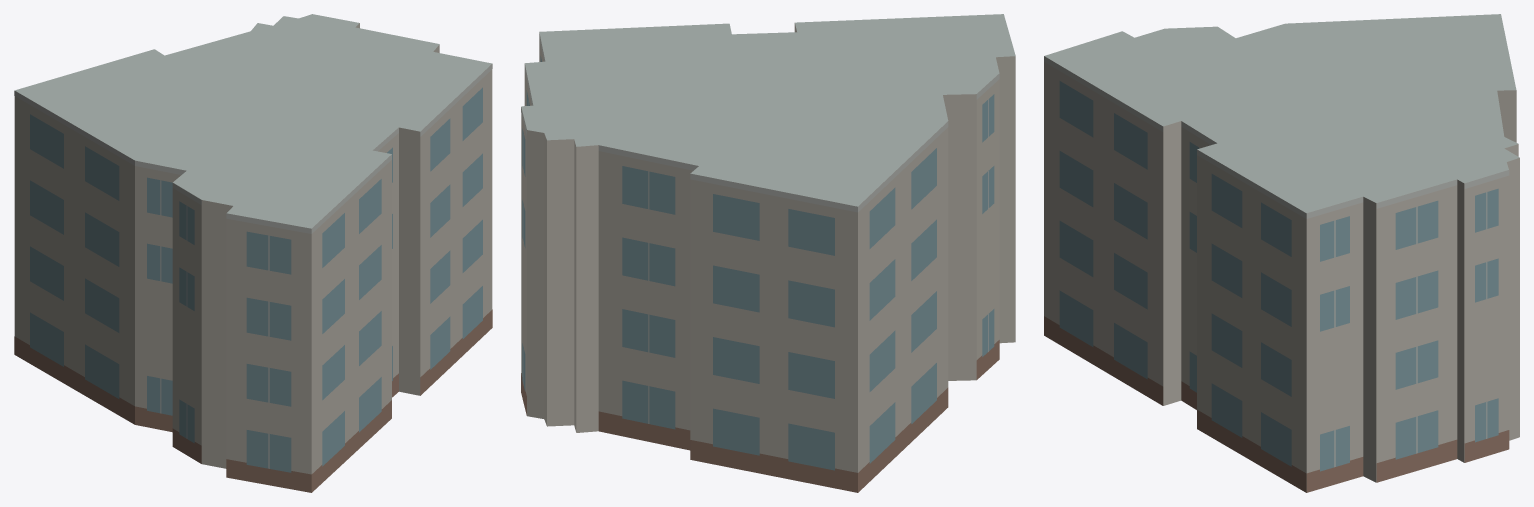
File: survey-upis-32579075.glb
3 views of the same model, side by side, from view 1: azimuth 30°, elevation 25°; view 2: azimuth 150°, elevation 25°; view 3: azimuth 270°, elevation 25° (orthographic). The views are drawn at different scales.
Parts seen in each view (by area): view 1: survey-upis-32579075.tmp; view 2: survey-upis-32579075.tmp; view 3: survey-upis-32579075.tmp.
Boxes of the visible parts, x1,y1,x2,y2 form: survey-upis-32579075.tmp: (14, 14, 492, 492); survey-upis-32579075.tmp: (521, 14, 1015, 492); survey-upis-32579075.tmp: (1044, 14, 1519, 492).
Size of the model in its own units: 18.2 by 11.9 by 18.36.
